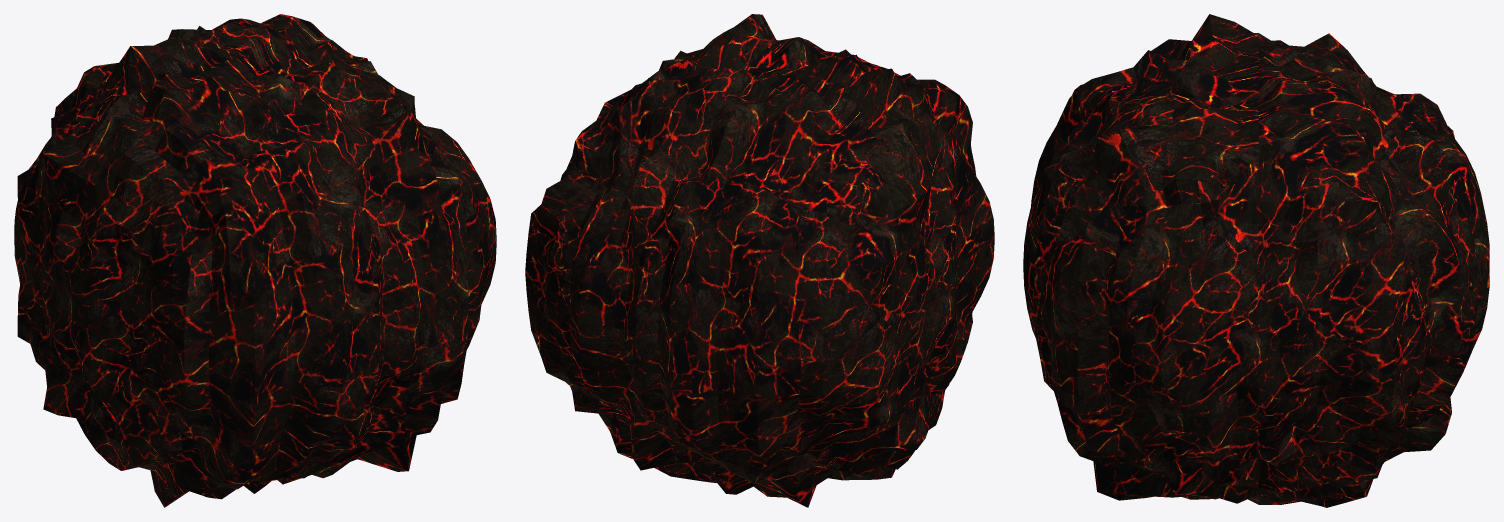
Rendered from asteroid123.obj.
3 renders of one model, left to right at view 1: azimuth 30°, elevation 25°; view 2: azimuth 150°, elevation 25°; view 3: azimuth 270°, elevation 25°, orthographic. The views are drawn at different scales.
Visible parts, largest first — view 1: Cube_Cube.002; view 2: Cube_Cube.002; view 3: Cube_Cube.002.
Boxes of the visible parts, x1,y1,x2,y2 form: Cube_Cube.002: [14, 14, 496, 507]; Cube_Cube.002: [525, 14, 994, 507]; Cube_Cube.002: [1023, 14, 1489, 507].
Bounding box in the file's own units: 1.66 × 1.72 × 1.73.
